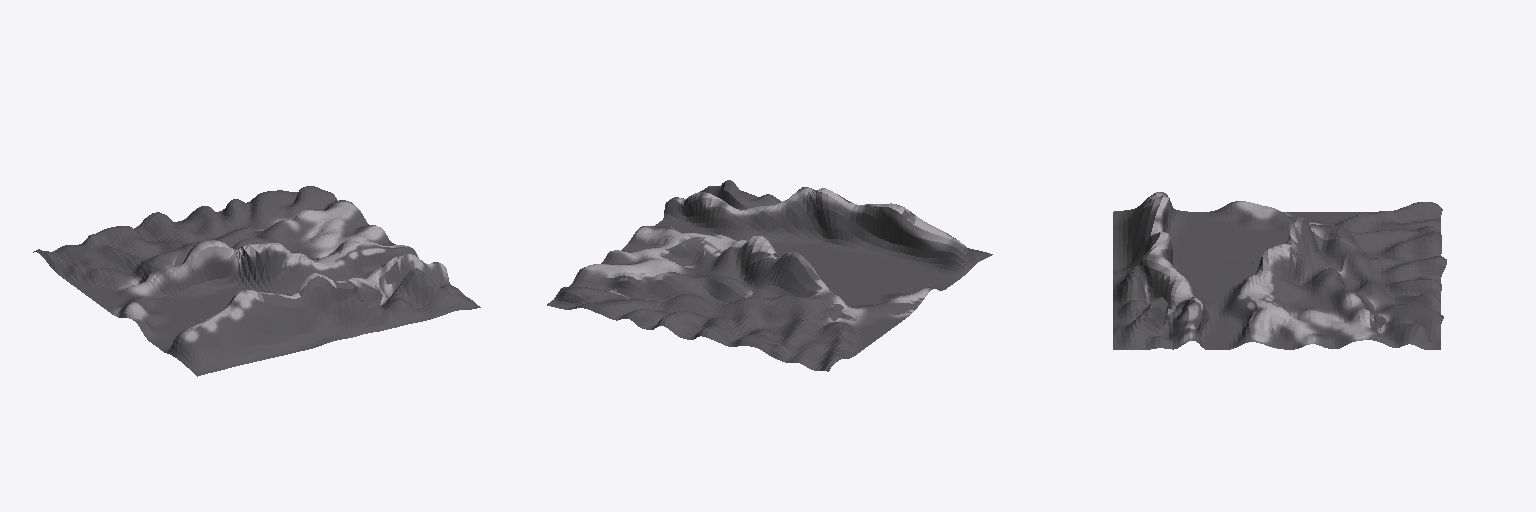
3 renders of one model, left to right at view 1: azimuth 30°, elevation 25°; view 2: azimuth 150°, elevation 25°; view 3: azimuth 270°, elevation 25°, orthographic.
Visible parts, largest first — view 1: Plane; view 2: Plane; view 3: Plane.
Part boxes in pixels (bbox=[...]): Plane: bbox=[33, 186, 480, 376]; Plane: bbox=[547, 180, 992, 371]; Plane: bbox=[1113, 192, 1446, 349].
Size of the model in its own units: 2.05 by 0.3471 by 2.05.
1 materials, 1 textured.